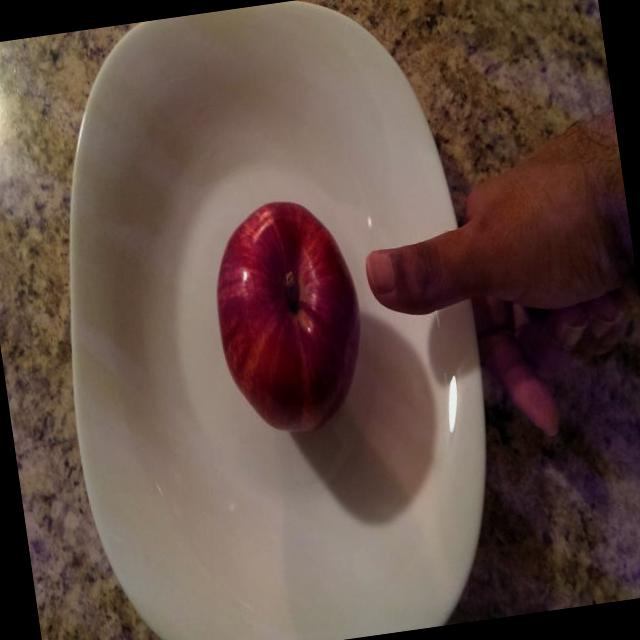Apple: (200, 185, 380, 446)
Finger: (358, 226, 457, 326)
